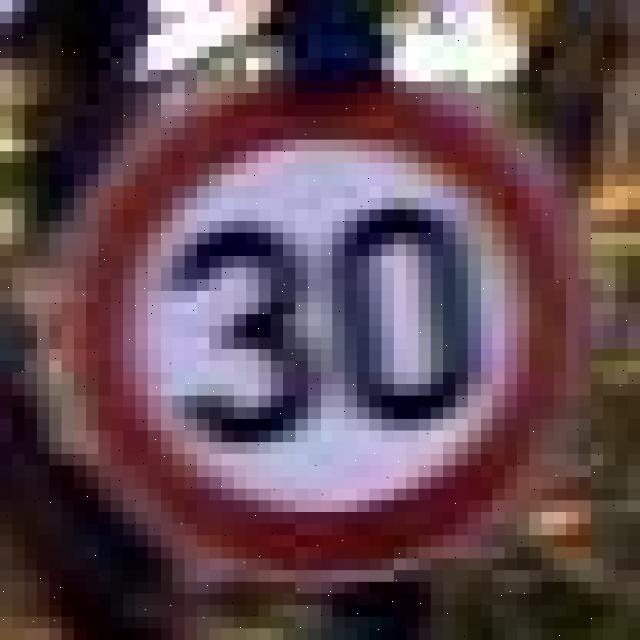speed limit 30: (65, 78, 583, 580)
